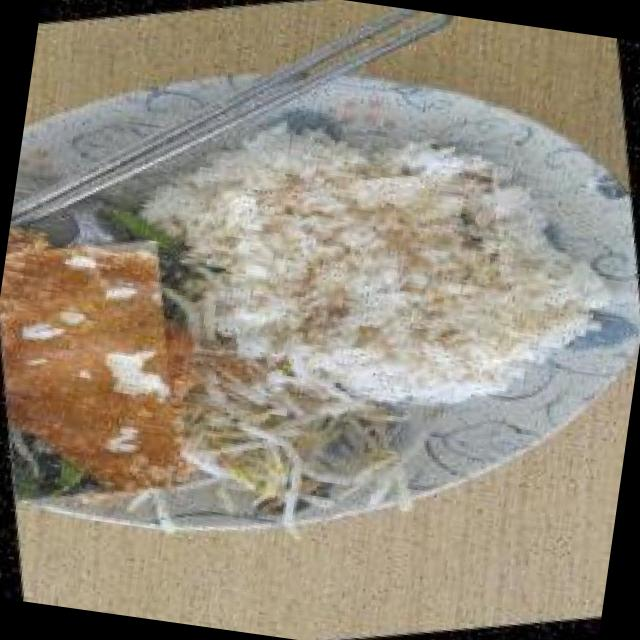fried_chicken: (0, 221, 214, 525)
mung_bean_sprouts: (178, 362, 384, 510)
rice: (202, 131, 530, 396)
